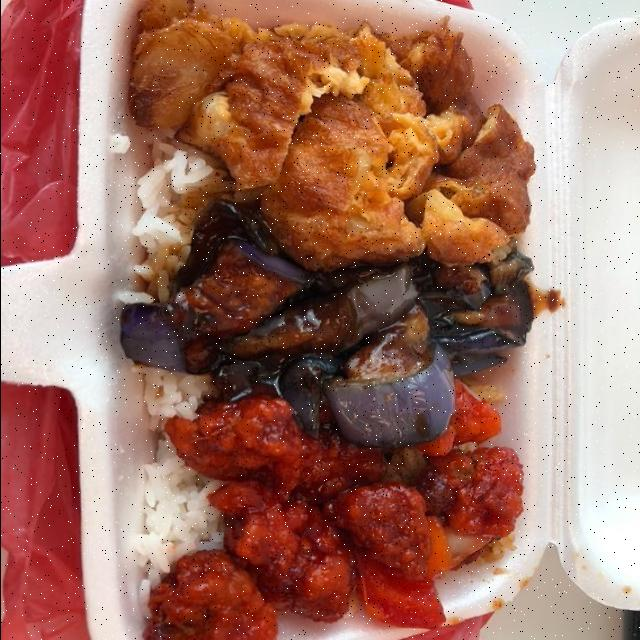Egg: (132, 0, 534, 270)
Non green veg: (123, 202, 533, 446)
Pork: (150, 395, 522, 639)
Rice: (122, 143, 229, 301), (134, 435, 221, 591), (132, 367, 211, 433)
